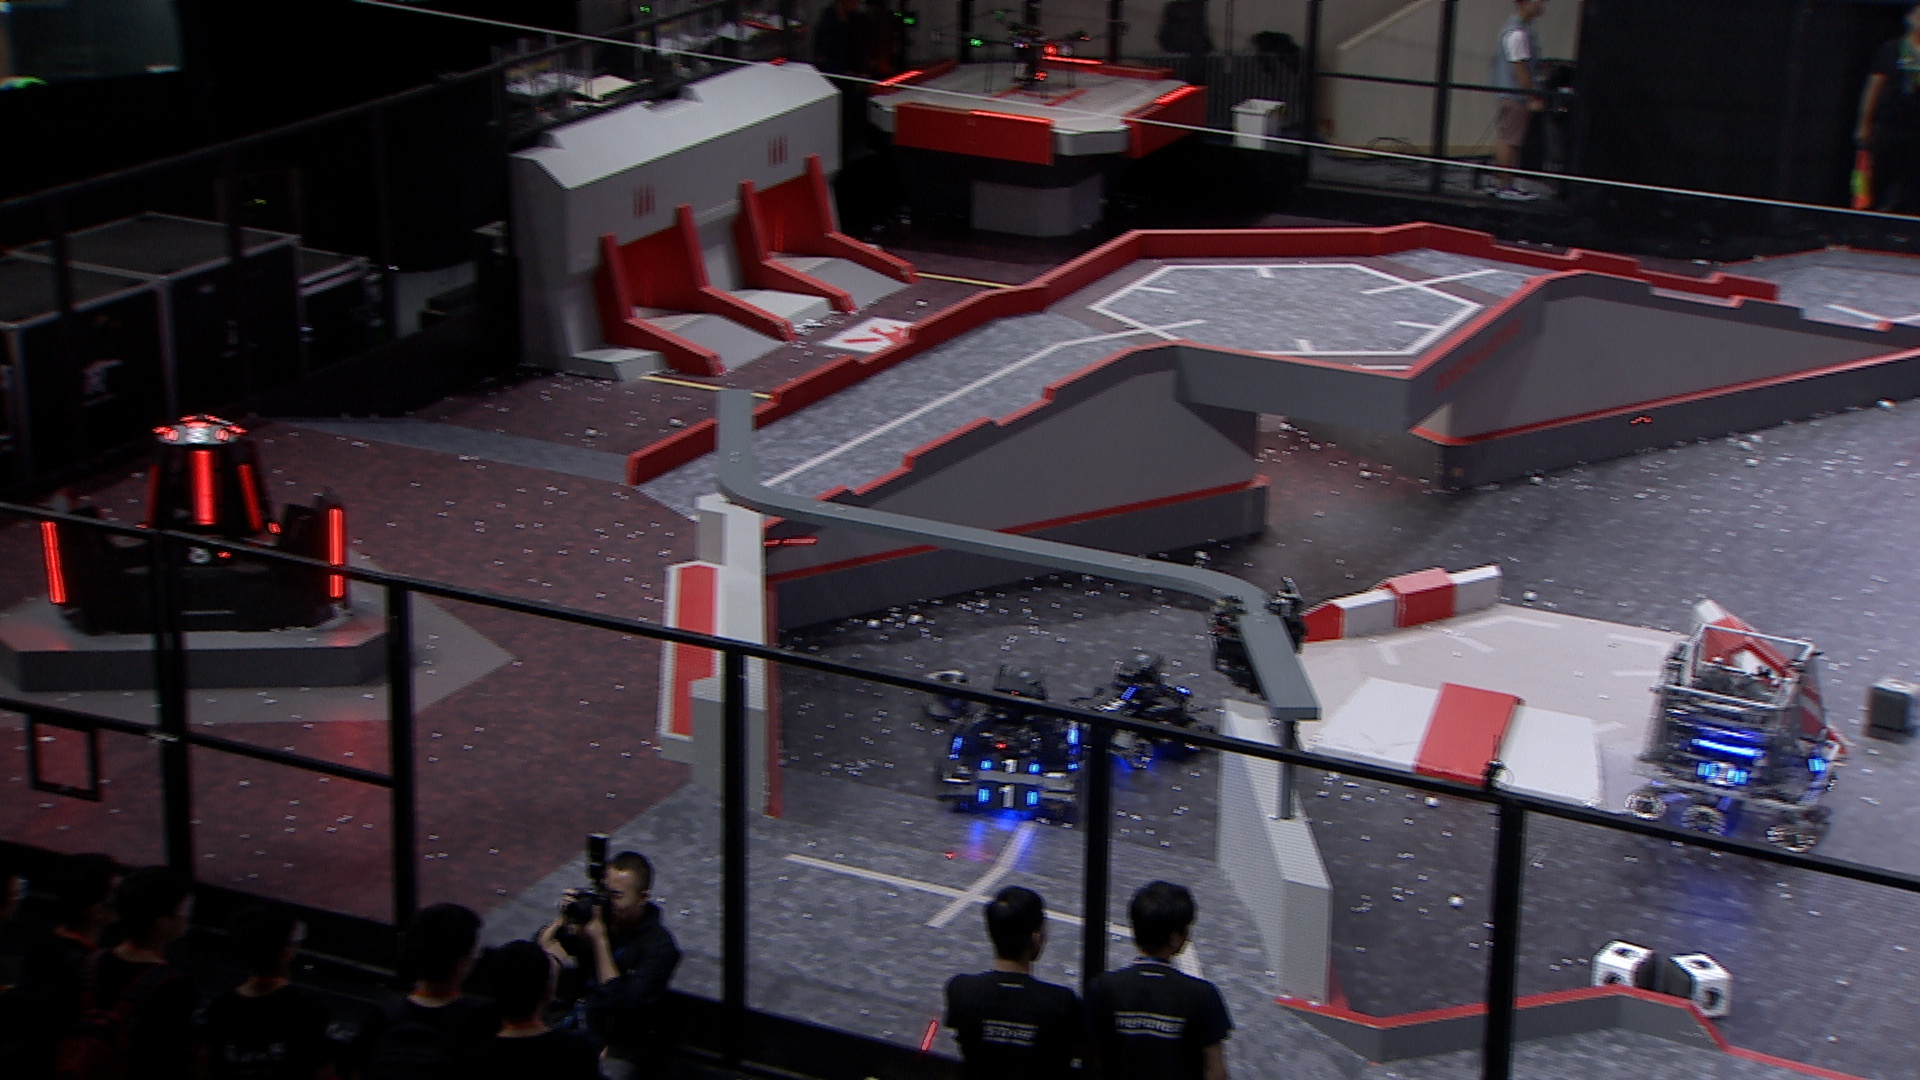armor: (40, 518, 74, 607), (320, 505, 349, 593), (187, 446, 216, 526), (162, 531, 229, 566), (160, 419, 229, 447), (235, 462, 262, 527), (973, 783, 1039, 811), (1695, 756, 1746, 790), (1096, 688, 1139, 721), (981, 756, 1043, 775), (1804, 742, 1833, 778)
base: (41, 404, 353, 632)
car: (1623, 618, 1849, 856), (932, 665, 1093, 818), (1058, 650, 1221, 770)
watcher: (1204, 574, 1311, 703)
